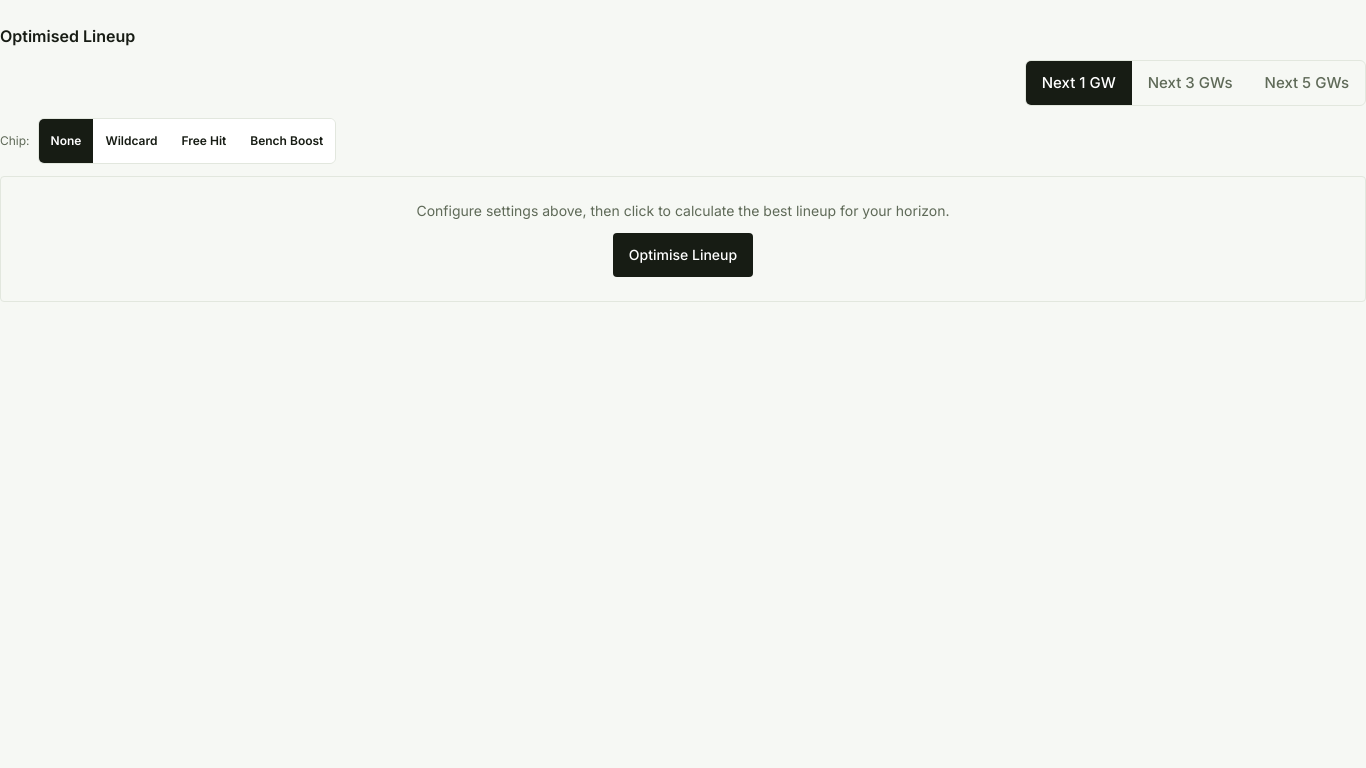
Phase 44: OptimiserPanel (comparison table) › CMP-02 headline row › renders headline row with Formation / Changes / xPts gain copy
Click the button with test id "optimise-button" at coordinates (683, 255), box [613,233,753,277]
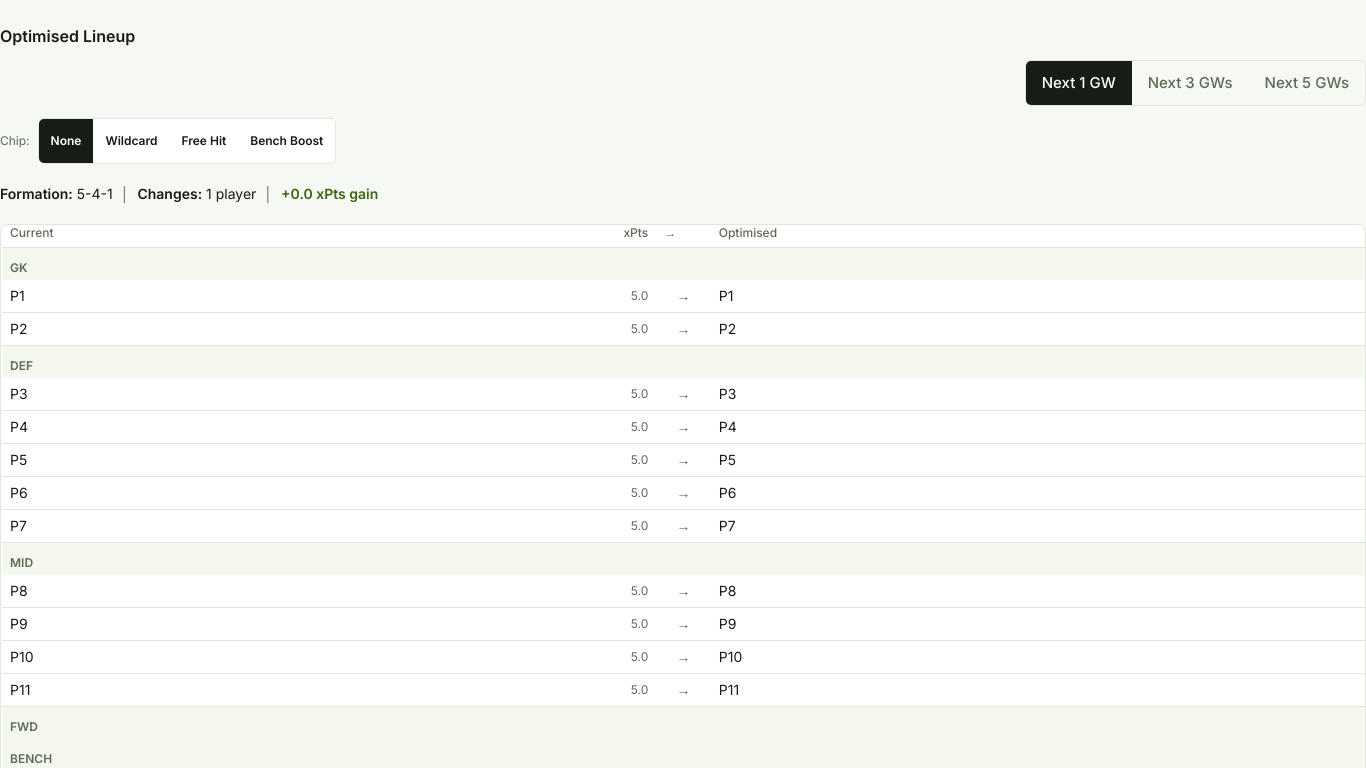
Check: the element with test id "headline-row" is shown, box [0,185,378,202]
Check: the element with test id "headline-row" shows "Formation:", box [0,185,73,202]
Check: the element with test id "headline-row" shows "Changes:", box [137,185,202,202]
